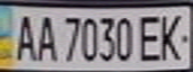0: (115, 12, 139, 63), (78, 14, 100, 63)
3: (97, 14, 118, 63)
7: (57, 12, 81, 63)
A: (9, 10, 39, 62), (33, 11, 57, 62)
E: (136, 11, 166, 63)
K: (154, 9, 190, 62)
